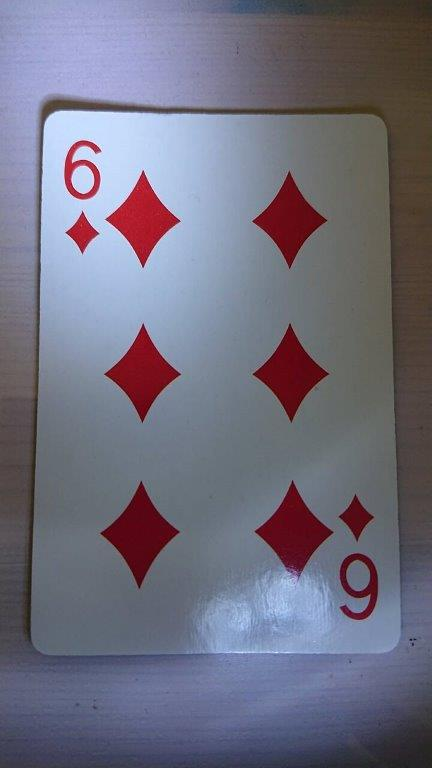6D: (28, 106, 404, 658)
